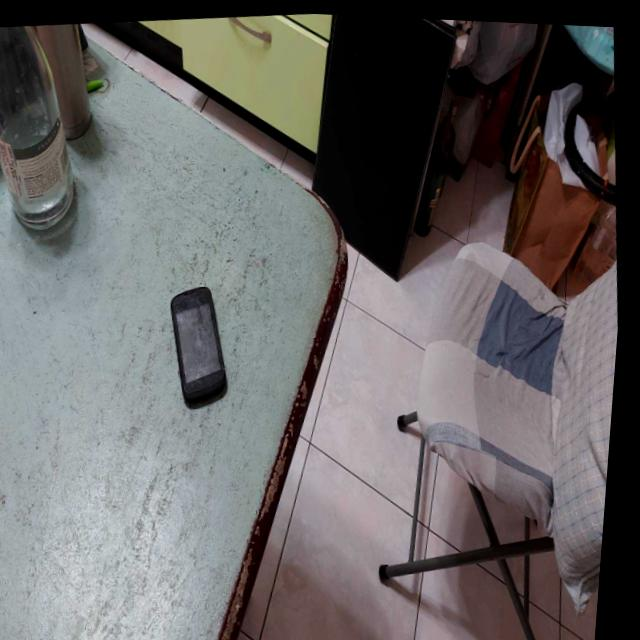Smartphone: (170, 265, 246, 415)
